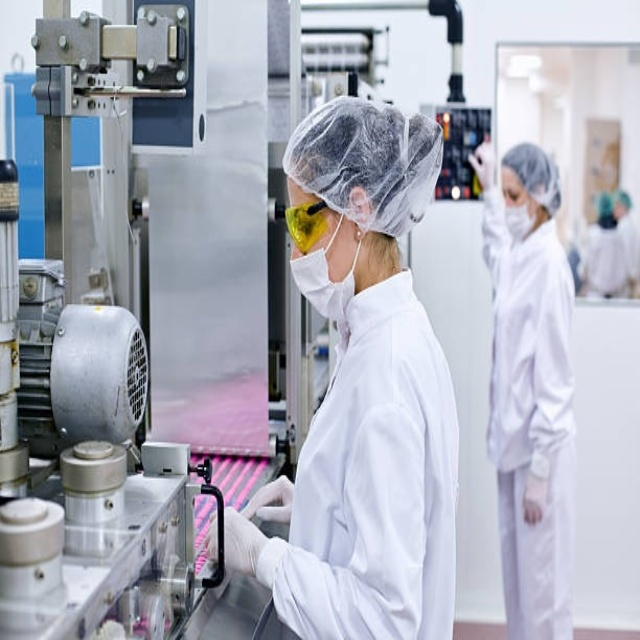Gafas: (286, 199, 334, 255)
Guantes: (208, 505, 272, 582), (241, 475, 294, 523), (522, 458, 550, 525), (468, 138, 495, 191)
Mascara: (288, 232, 366, 318), (502, 196, 534, 237)
Sin_gafas: (502, 186, 524, 204)
